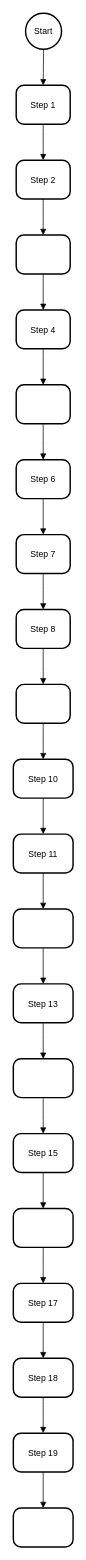
Some shapes in this 86 by 1560 pixel diagram are drawn without their labels. Each missing label, with the box of its shape:
Step 12: (12, 908, 73, 948)
Step 14: (12, 1058, 73, 1098)
Step 16: (12, 1207, 73, 1248)
Step 20: (12, 1507, 73, 1547)
Step 3: (15, 234, 71, 274)
Step 5: (15, 384, 71, 424)
Step 9: (15, 683, 71, 724)
